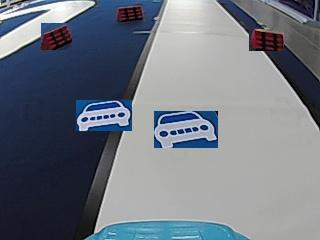bomb: (117, 4, 143, 21)
